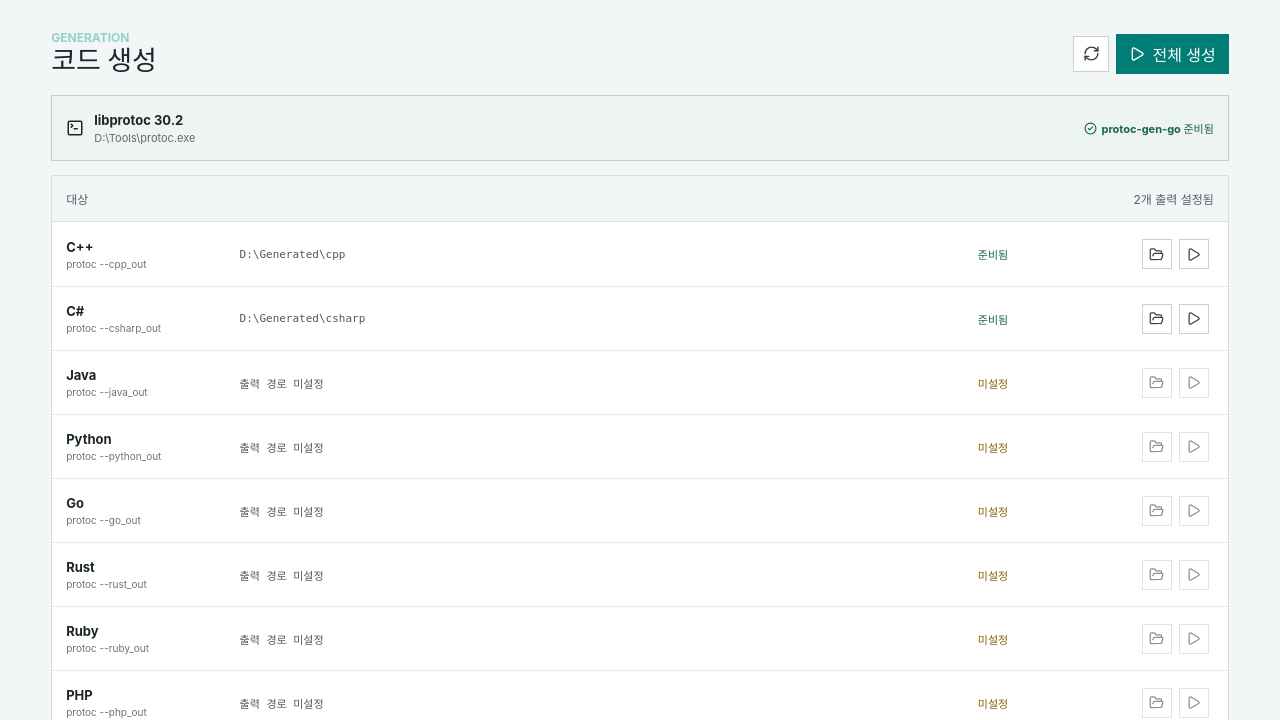
CodegenScreen › cancels an all-language run after the active process finishes
This screenshot has width=1280, height=720.
Click the button "전체 생성" at (1173, 54), box [1116,34,1229,74]
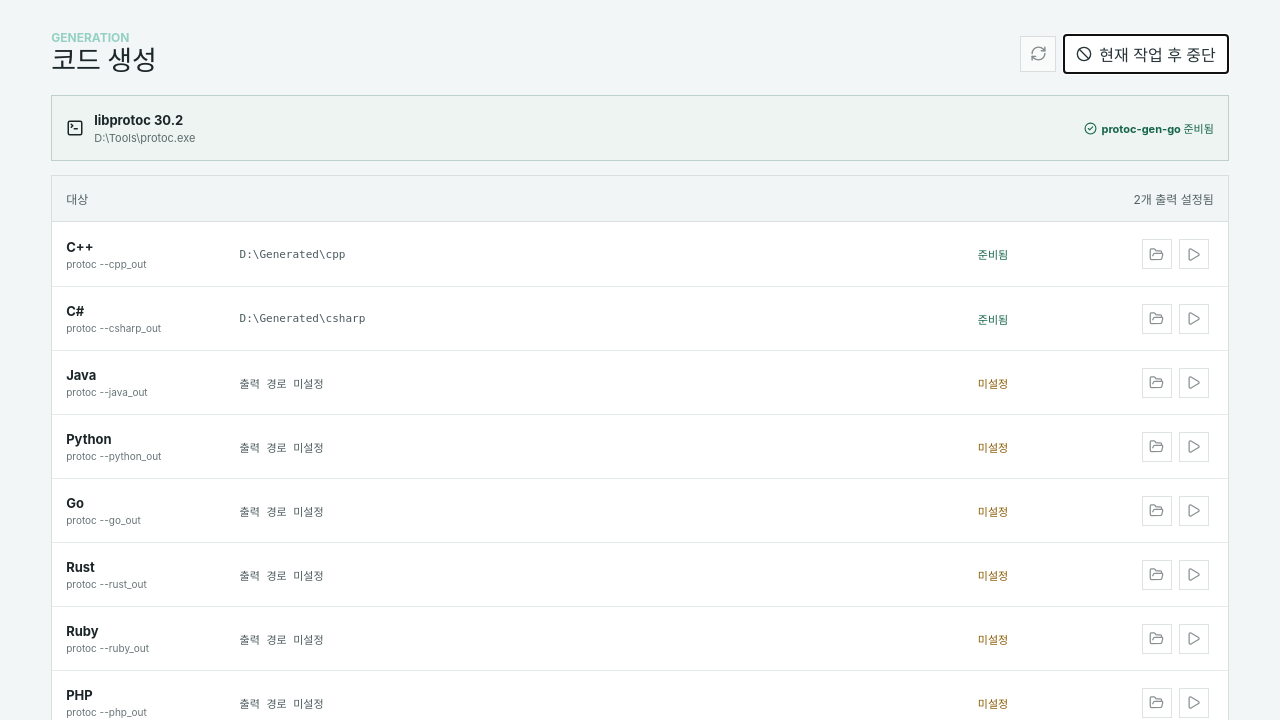
Click the button "현재 작업 후 중단" at (1146, 54), box [1063,34,1229,74]
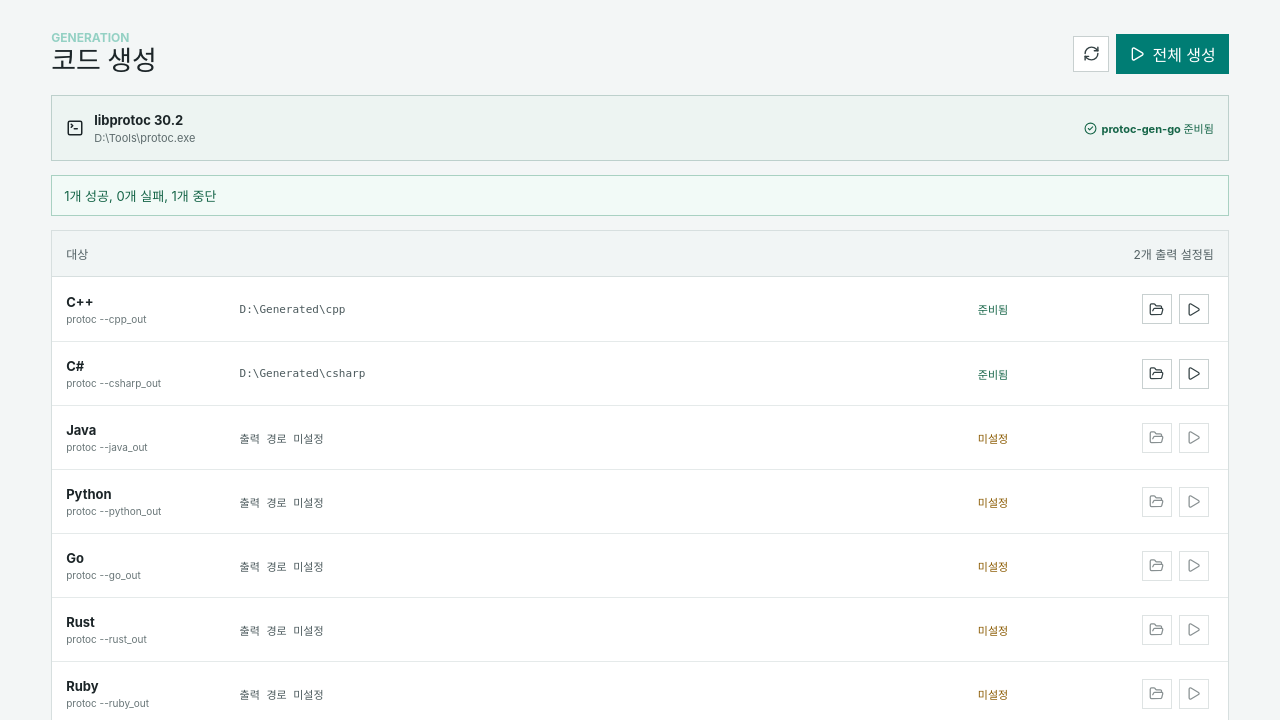
Expected: the text "1개 성공, 0개 실패, 1개 중단" is shown, [51,175,1229,216]
